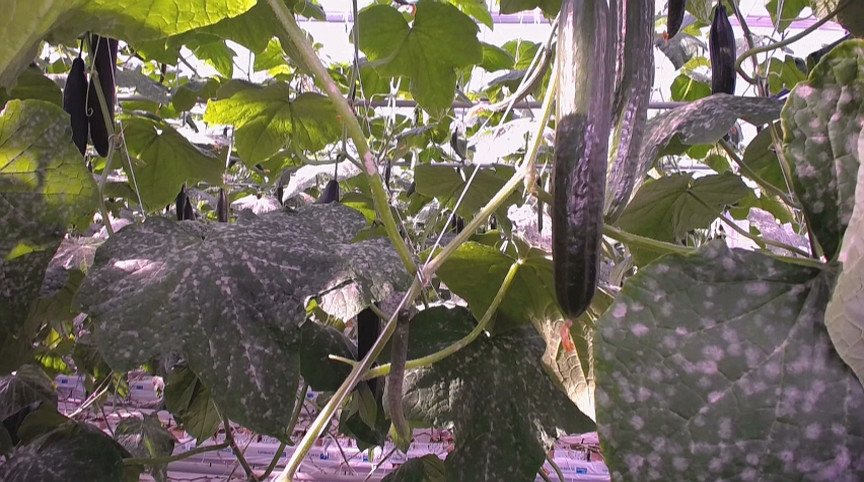cucumber: (554, 1, 611, 321), (604, 1, 657, 222), (89, 35, 116, 160), (711, 7, 738, 98), (64, 59, 89, 154), (666, 1, 688, 40)
